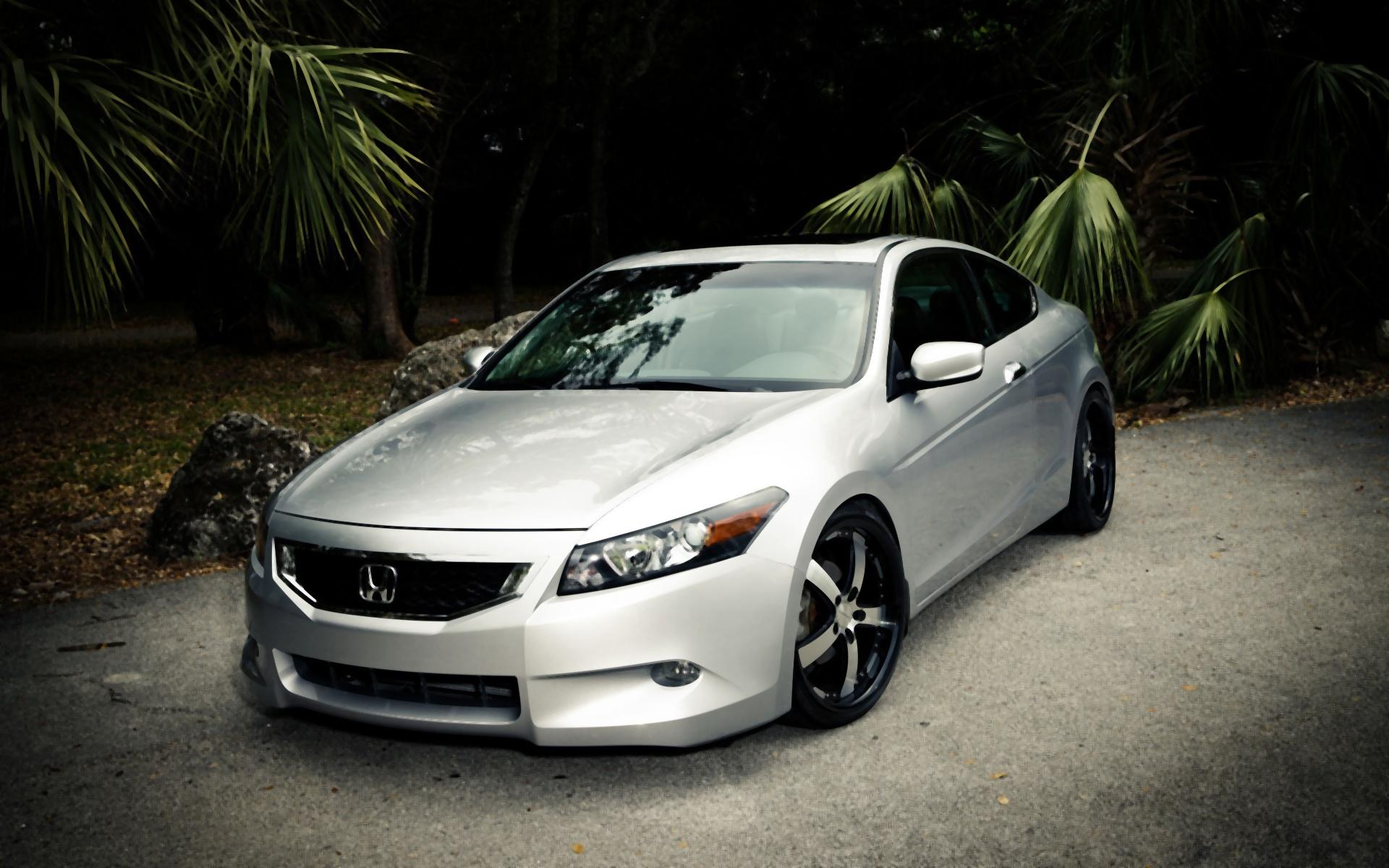Car hood: (256, 381, 852, 539)
Fender - -F-L-: (745, 371, 915, 618)
Fender - -R-L-: (1041, 327, 1104, 518)
Front bumper: (233, 550, 813, 762)
Headlight - -L-: (551, 479, 791, 600)
Passenger-s door - -F-L-: (905, 237, 1032, 606)
Side bumper - -L-: (899, 453, 1079, 641)
Side mirror - -L-: (889, 336, 991, 405)
Side mirror - -R-: (452, 339, 506, 386)
